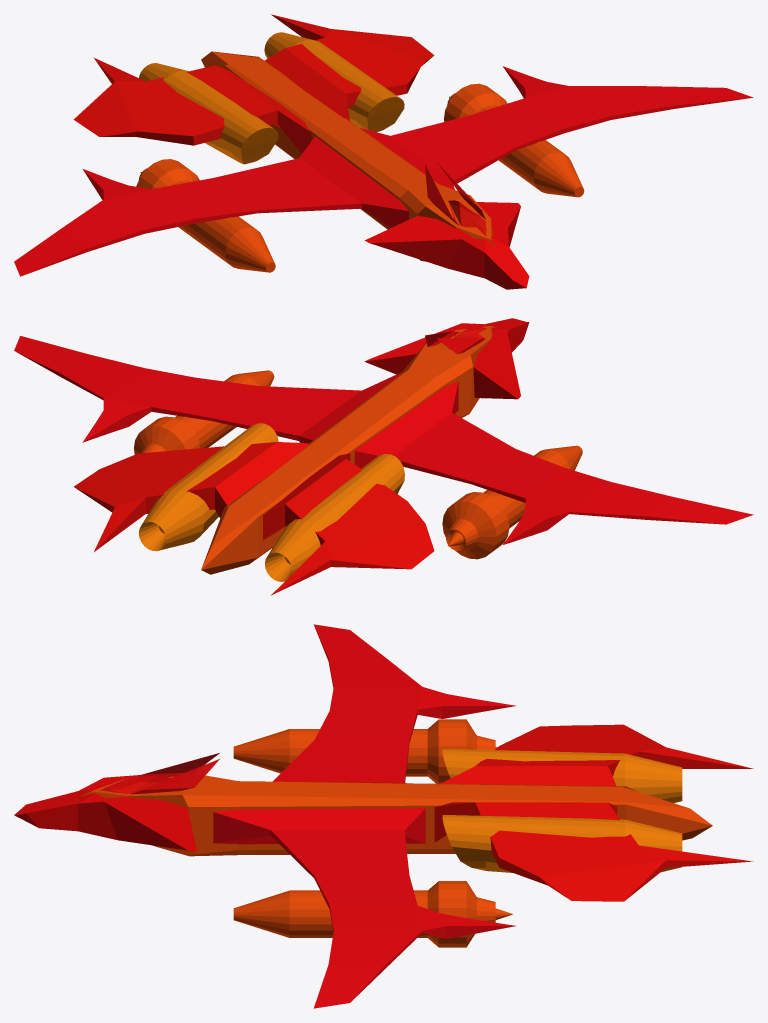
File: Jibril.fbx
3 renders of one model, top to bottom at view 1: azimuth 30°, elevation 25°; view 2: azimuth 150°, elevation 25°; view 3: azimuth 270°, elevation 25°, orthographic. The views are drawn at different scales.
Visible parts, largest first — view 1: EPlane; view 2: EPlane; view 3: EPlane.
Part boxes in pixels (x1,y1,x2,y2): EPlane: [14, 14, 752, 289]; EPlane: [14, 318, 753, 595]; EPlane: [14, 624, 753, 1008].
Size of the model in its own units: 350 by 45.86 by 285.
